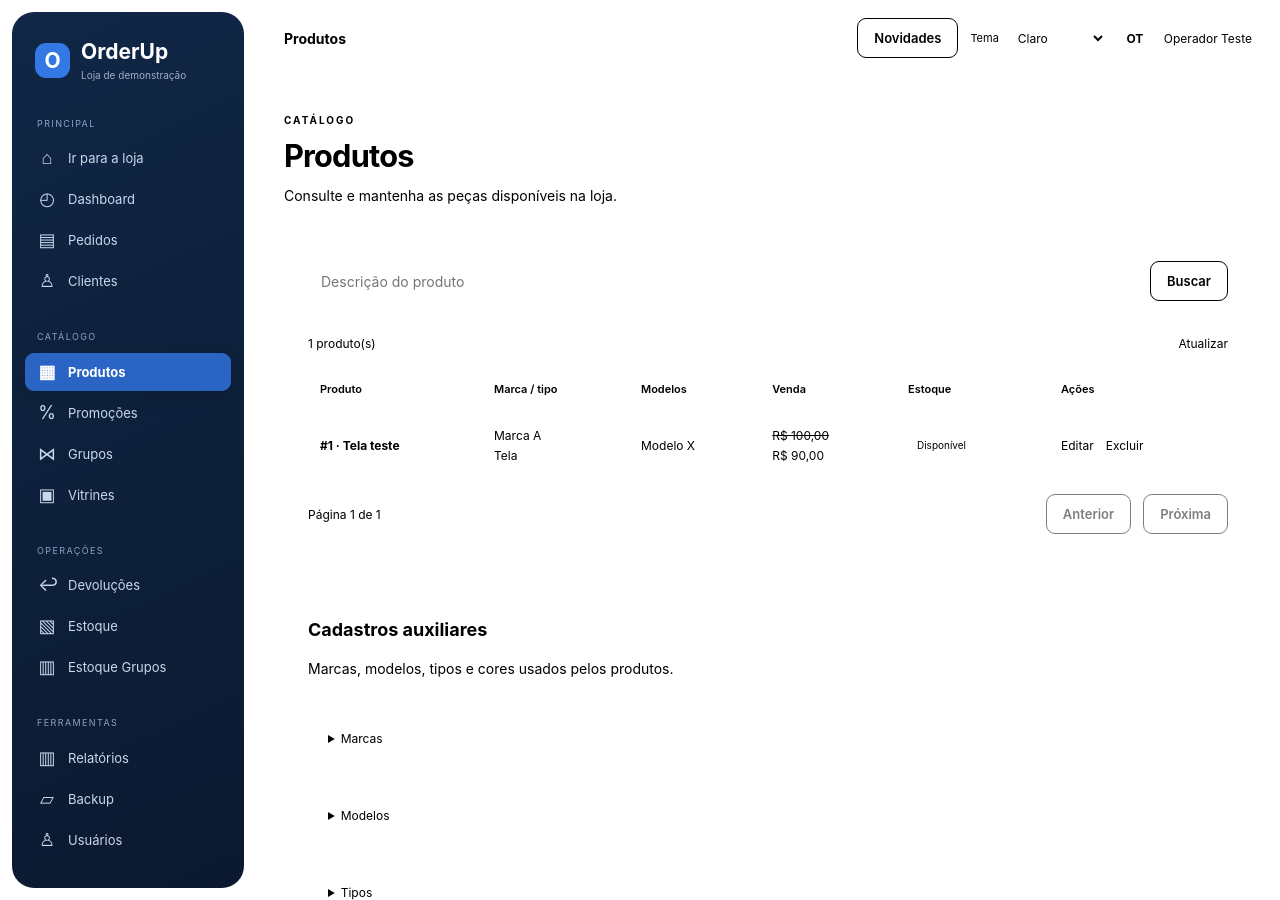
Test: fase 3 · catálogo › lista produtos e mantém a navegação dentro do React
Expected: the text "#1 · Tela teste" is shown, x1=320 y1=438 x2=400 y2=453
What coordinates should you click on to do the following:
click the link "% Promoções"
I would click on:
 (88, 412)
Its box is x1=38 y1=402 x2=138 y2=423.
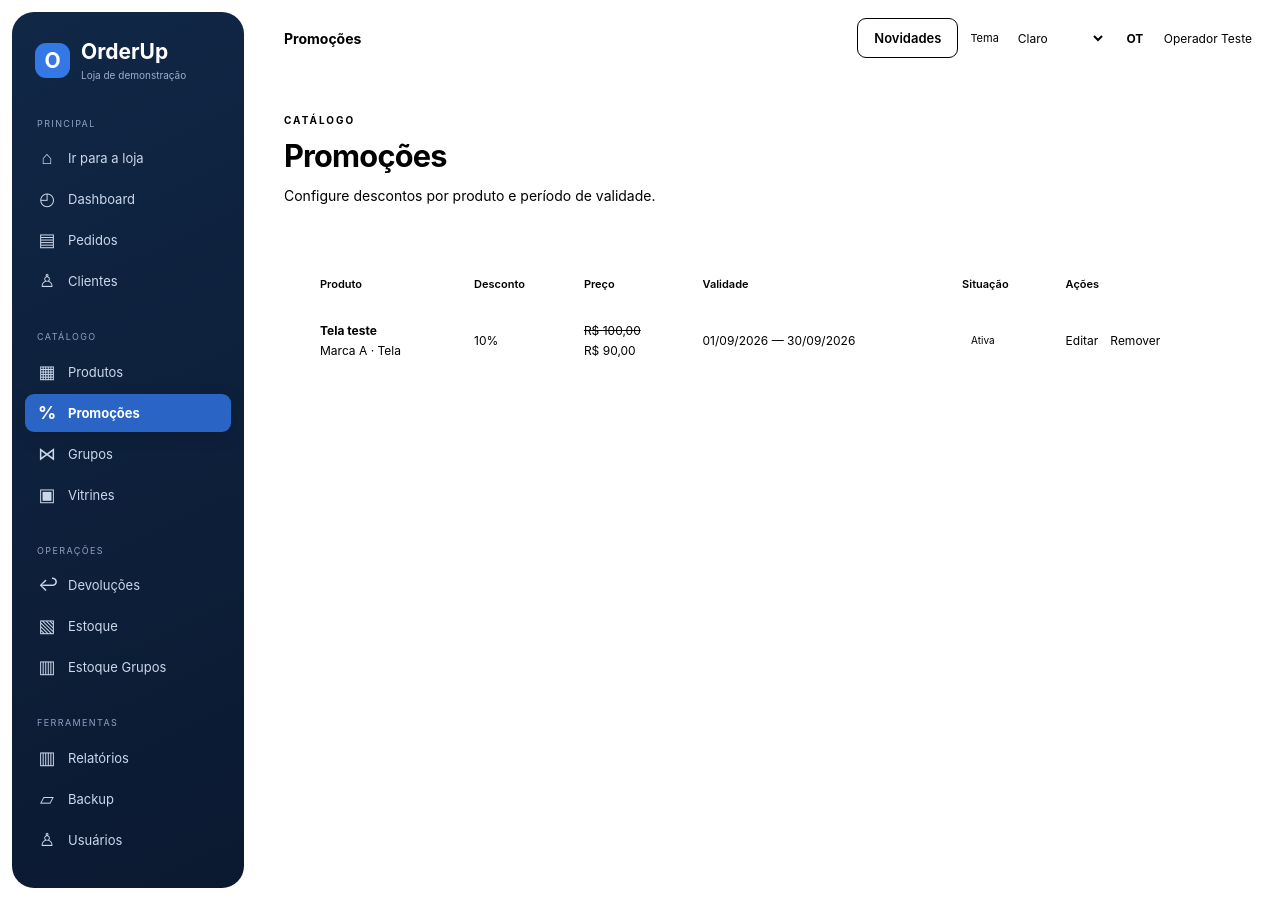
Now the heading "Promoções" is shown, box x1=284 y1=137 x2=447 y2=174
Now the text "10%" is shown, box x1=462 y1=307 x2=572 y2=374
